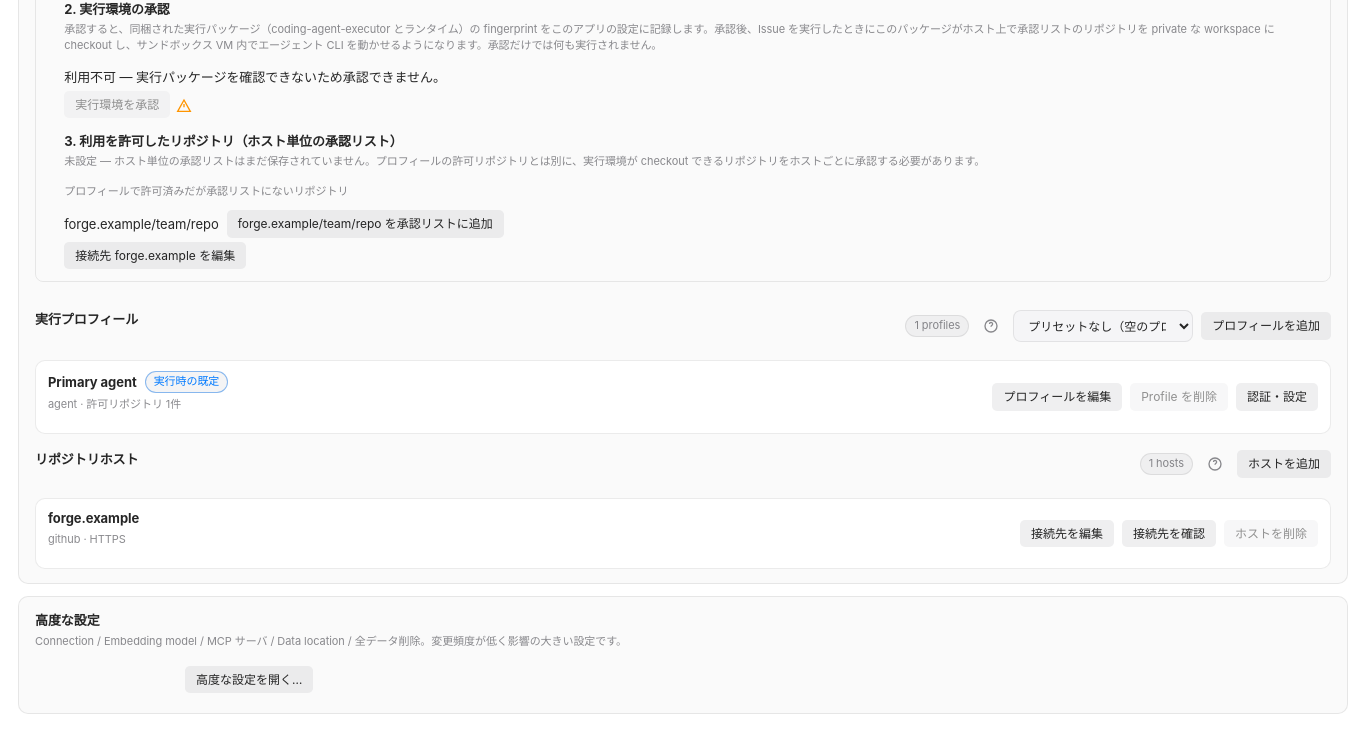
it: Settings view switching › saves coding-agent-only edits through the common footer
(page scrolled)
Click the button "プロフィールを編集" at (1057, 397), box [992,383,1122,411]
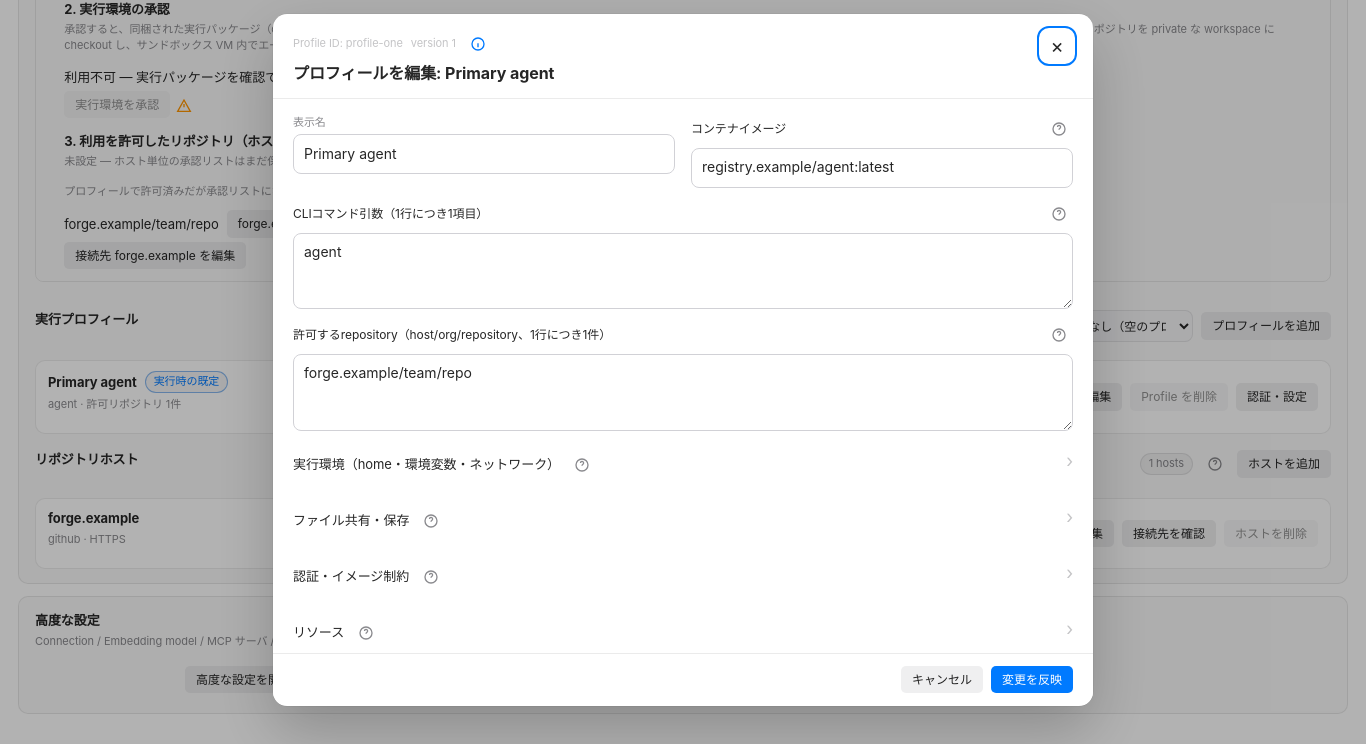
Replace the text in the field labelled "表示名" with "Edited agent" at (484, 154), box [293,134,675,174]
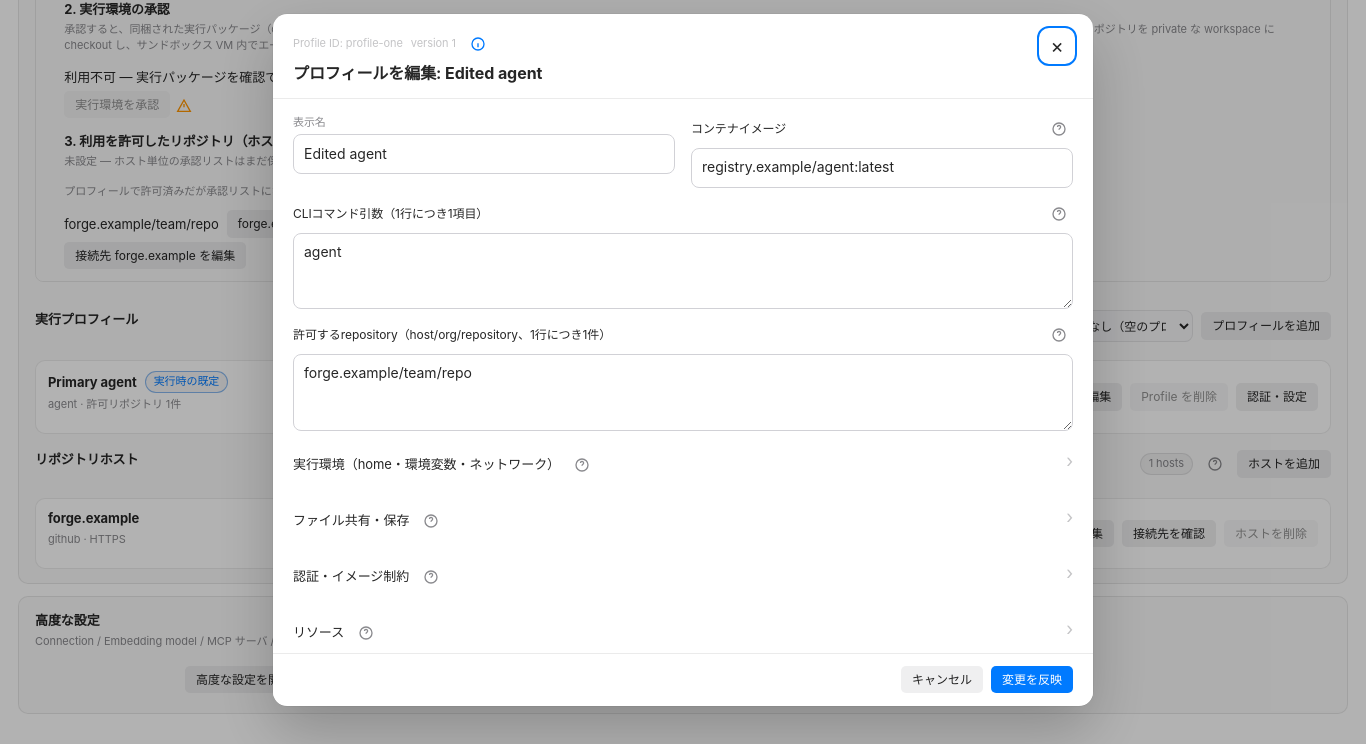
Click the button "変更を反映" at (1032, 680), box [991,666,1073,694]
(page scrolled)
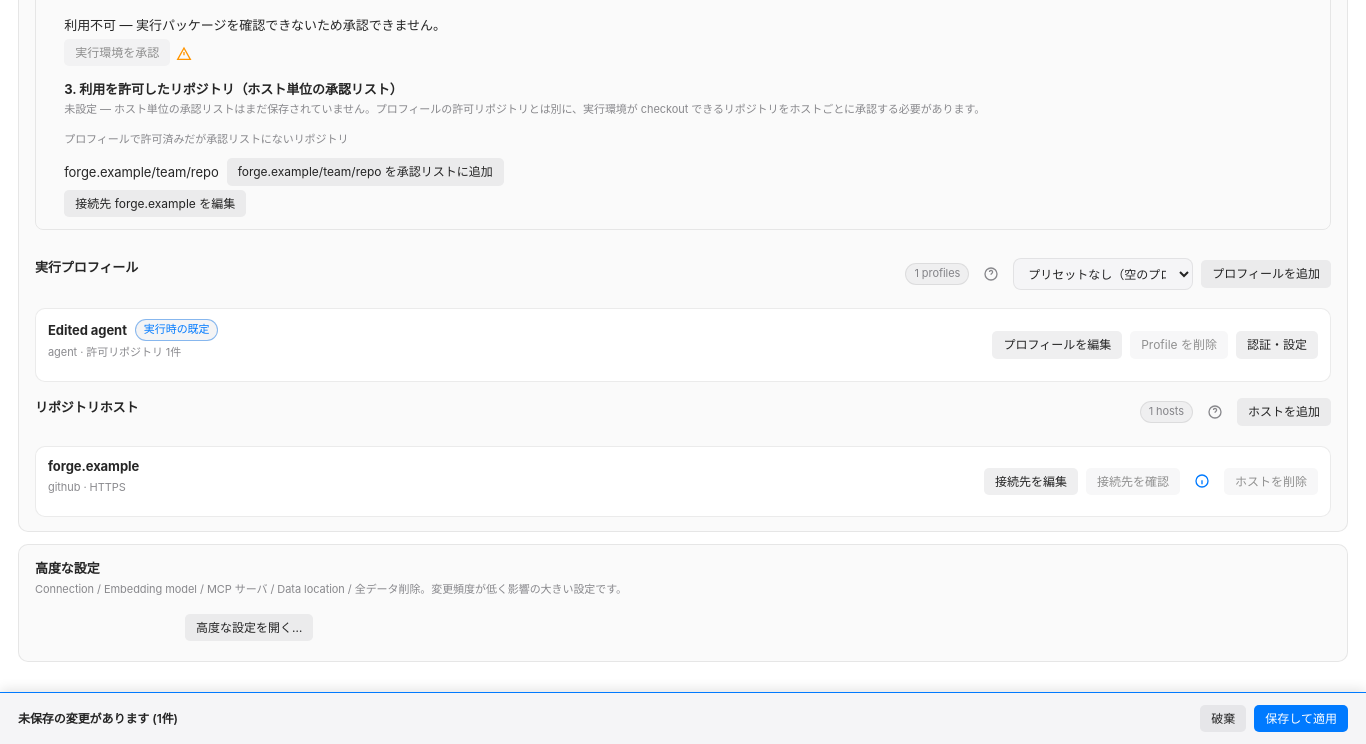
Click the button "保存して適用" at (1301, 719), box [1254,705,1348,732]
(page scrolled)
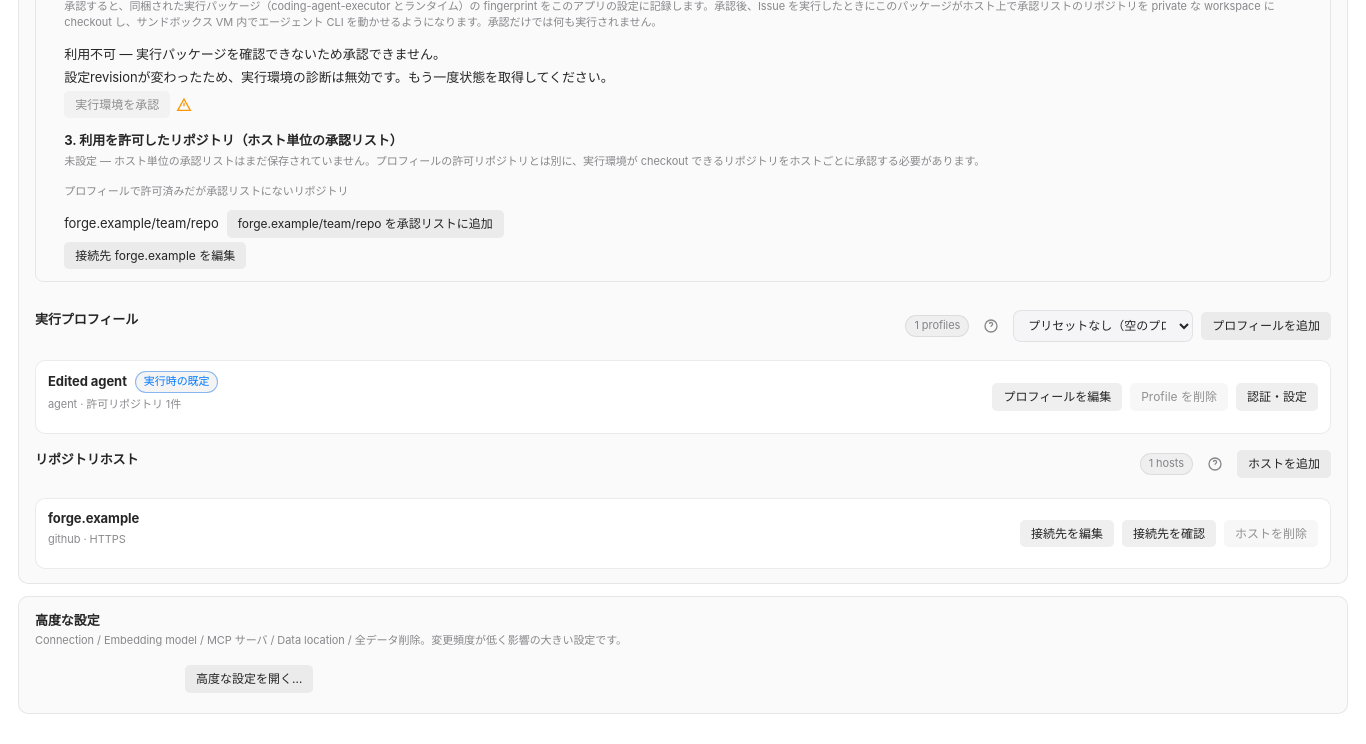
Check: the text "未保存の変更があります" is gone
